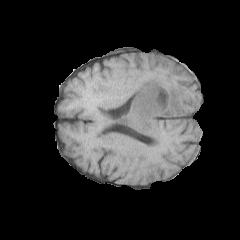glioma: (115, 76, 186, 142)
